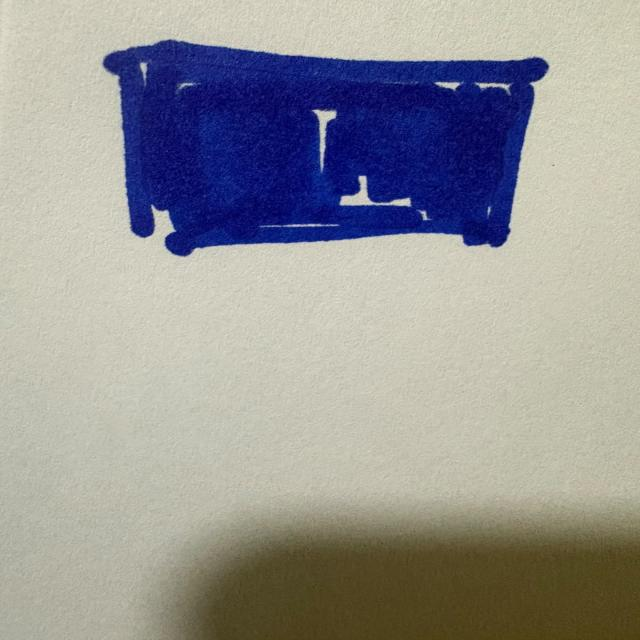Rectangle: (103, 40, 548, 256)
